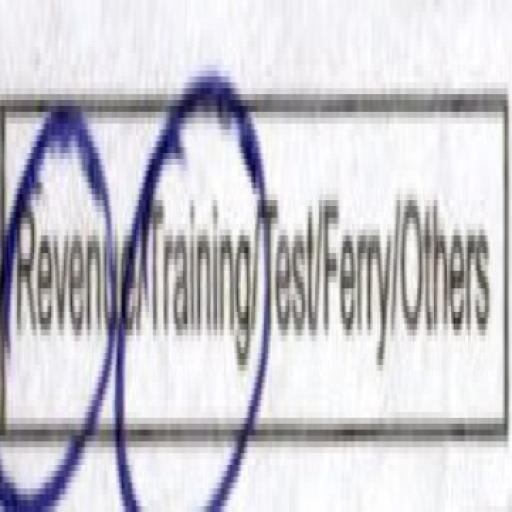check: (0, 45, 140, 512), (143, 37, 258, 512)
